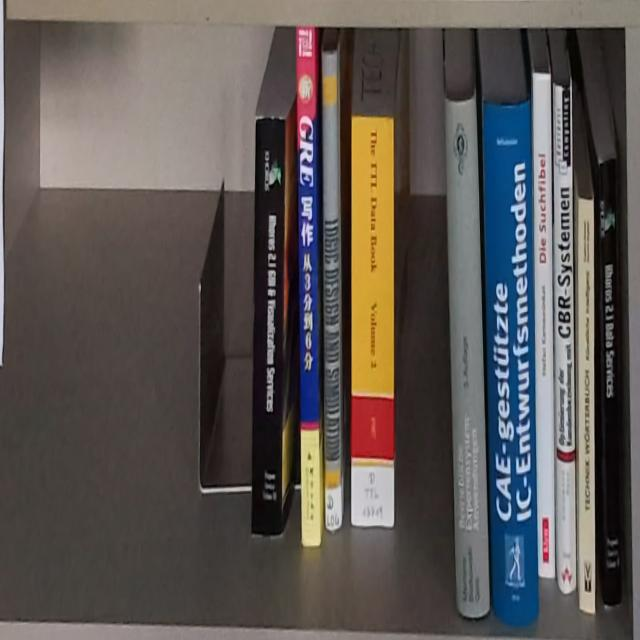Book Spine: (481, 91, 537, 630), (443, 90, 490, 621), (351, 119, 395, 527), (254, 119, 286, 538), (531, 69, 557, 582), (297, 25, 321, 550), (554, 79, 577, 597), (596, 157, 622, 606), (321, 41, 344, 531), (576, 196, 595, 621)
